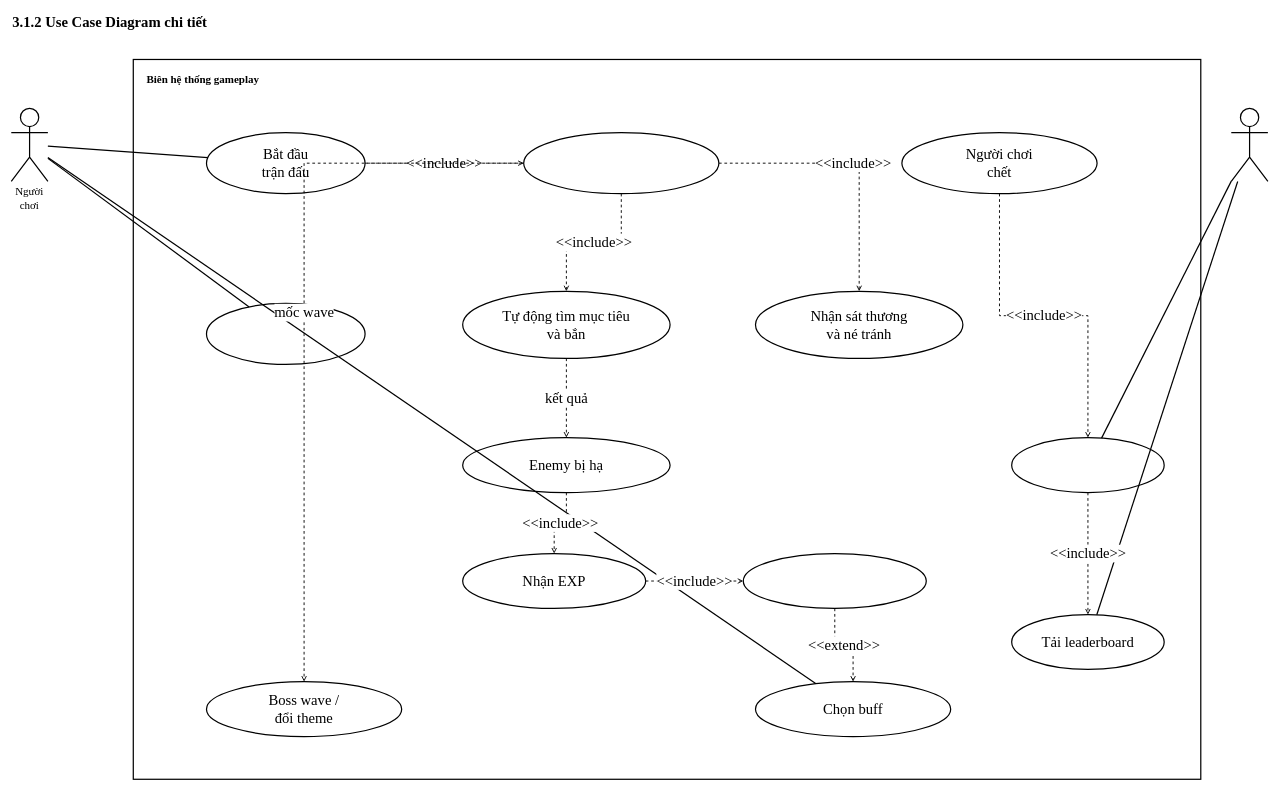
Some shapes in this 1279 by 790 pixel diagram are drawn without their labels. Each missing label, with the centre of its shape:
Chiến đấu: the point at 621,163
Di chuyển / Dash: the point at 285,334
Gửi điểm số: the point at 1087,465
Kiểm tra lên cấp: the point at 834,581
PlayFab: the point at 1249,144
